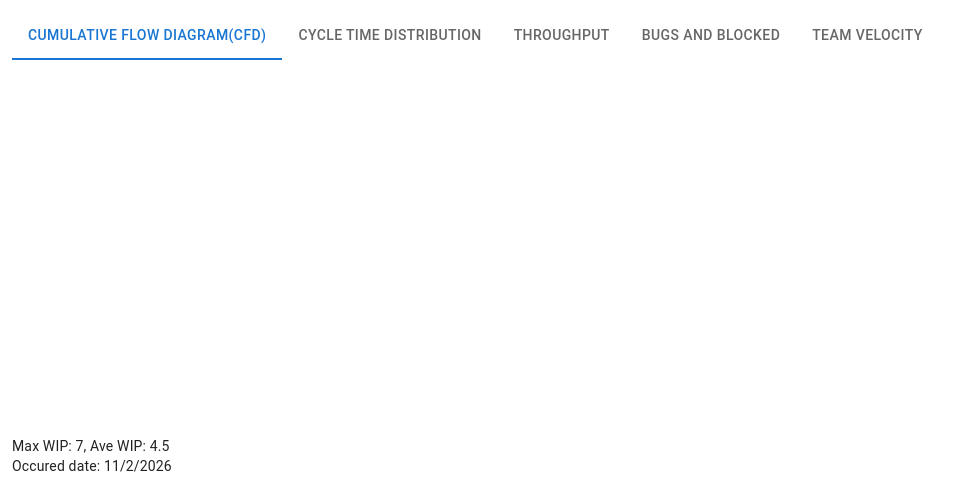
Test: tab click switches chart, fetches that endpoint, persists kanban.lastMetricChartType
The width and height of the screenshot is (956, 491).
Step 1. Click the tab with test id "metrics-tab-throughput" → (562, 36), box left=498, top=12, right=626, bottom=60
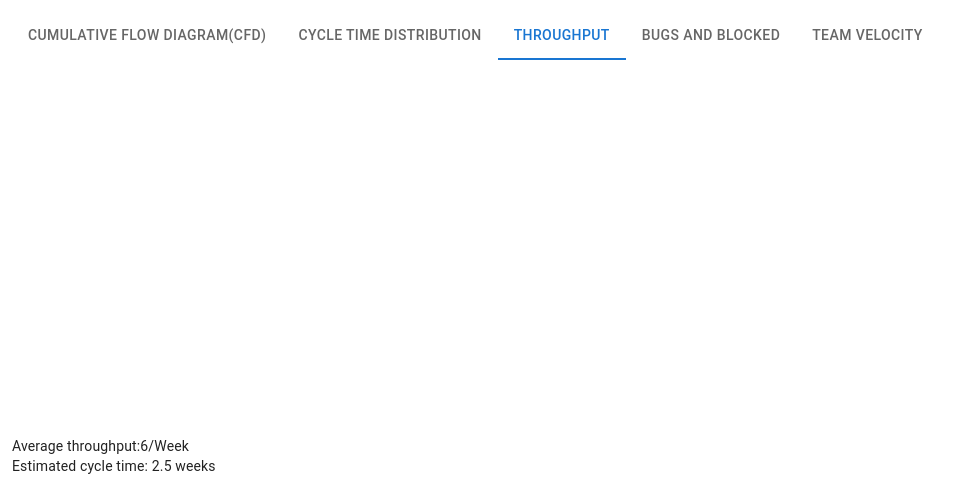
Expected: the element with test id "metrics-summary" shows "Average throughput:6/Week", left=12, top=438, right=189, bottom=454
Expected: the element with test id "metrics-summary" shows "2.5 weeks", left=12, top=458, right=216, bottom=474
Step 2. Click the tab with test id "metrics-tab-velocity" → (867, 36), box left=796, top=12, right=939, bottom=60
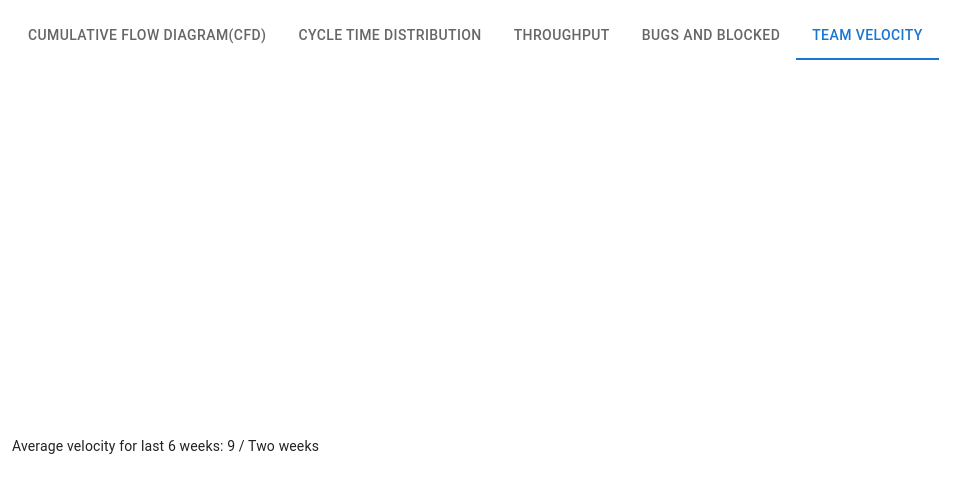
Expected: the element with test id "metrics-summary" reads "Average velocity for last 6 weeks: 9 / Two weeks", left=12, top=438, right=319, bottom=454
